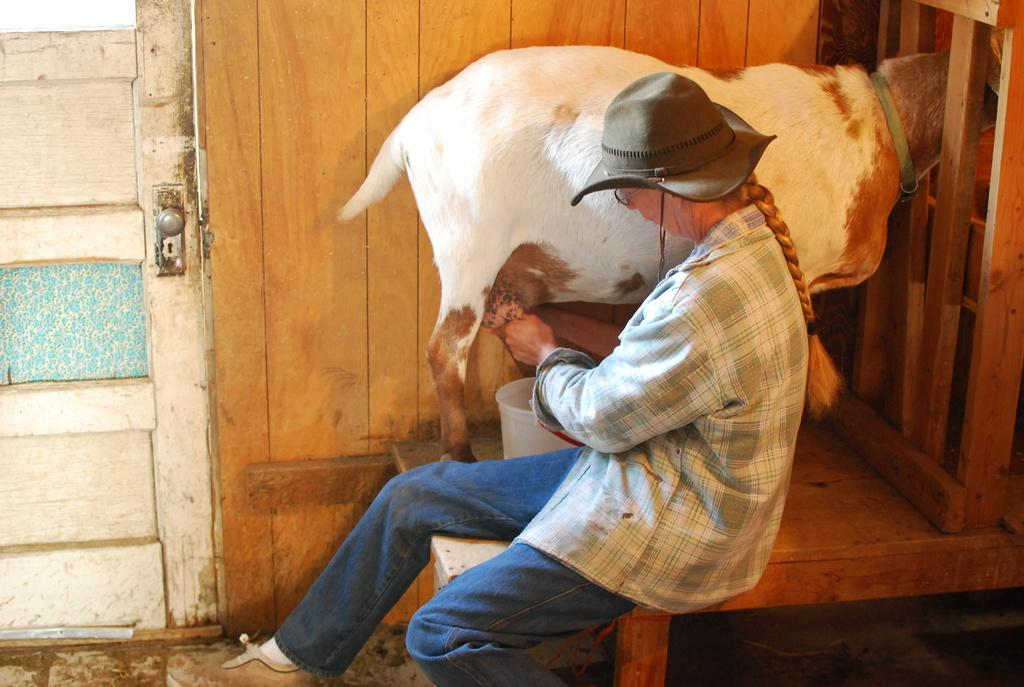Hat: (572, 69, 776, 204)
